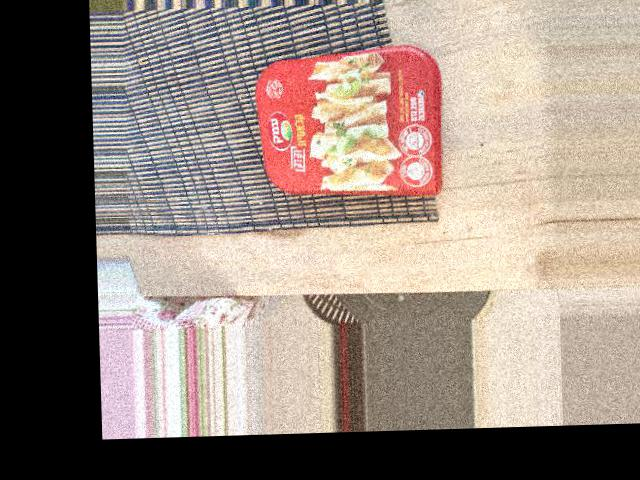cheese: (168, 10, 297, 204)
